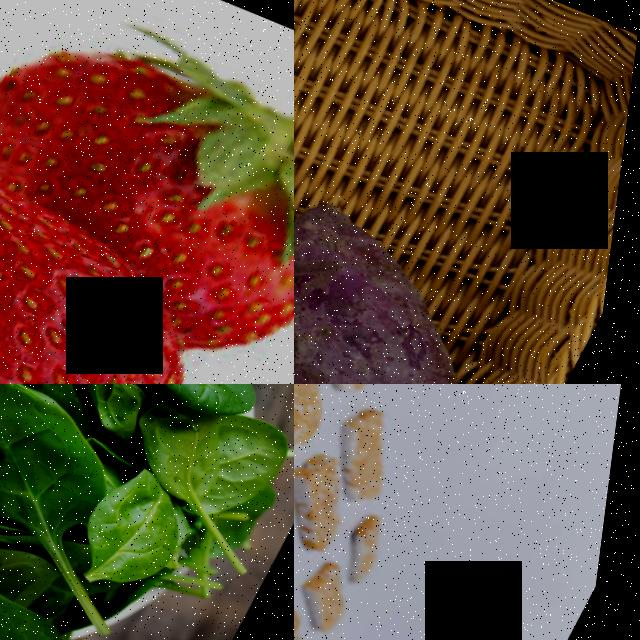spinach: (0, 384, 159, 545), (126, 384, 294, 531), (74, 471, 217, 606), (104, 384, 293, 426), (0, 586, 106, 640)
strawberry: (0, 0, 294, 307), (0, 104, 267, 384)
sweet potato: (294, 192, 472, 379), (294, 280, 531, 384)
